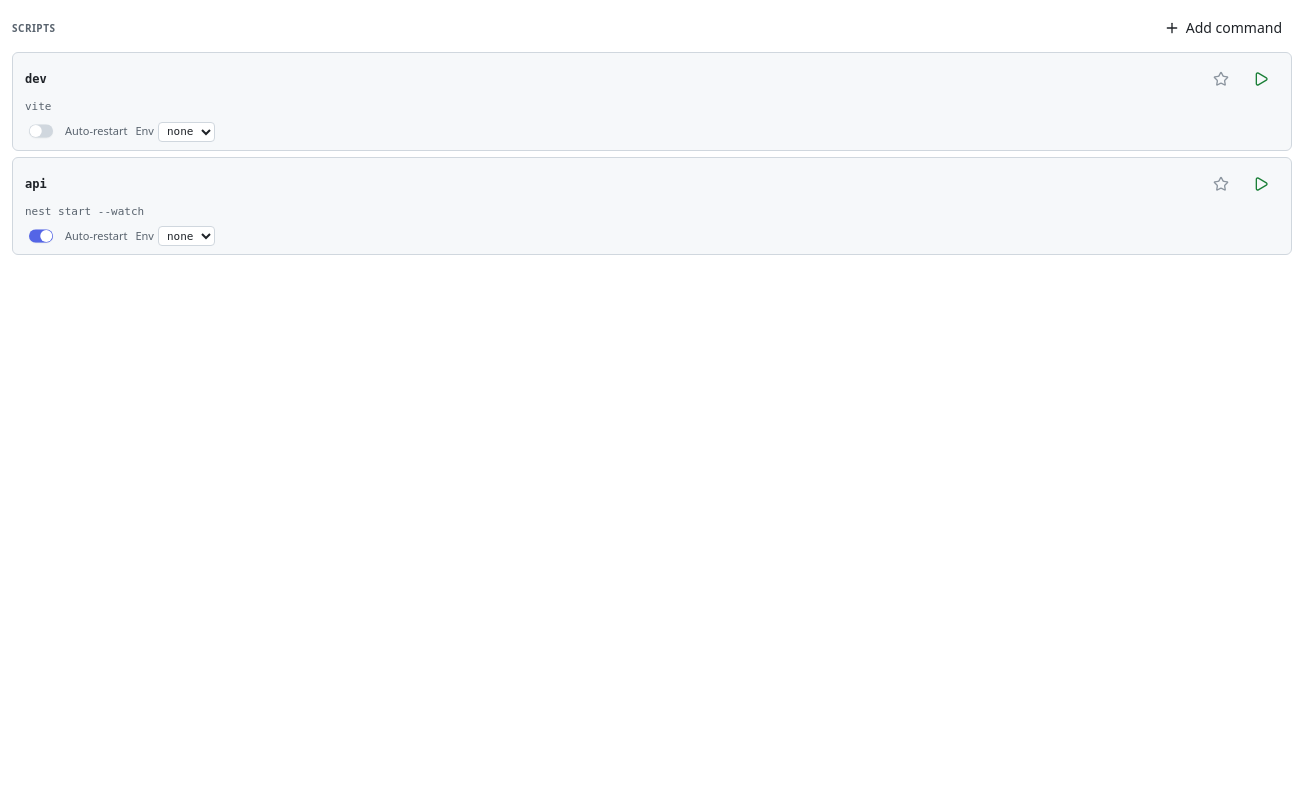
ScriptList › toasts a failed start
Click the button named "Start dev".
click(1261, 79)  # box top-left (1243, 61), bottom-right (1279, 97)
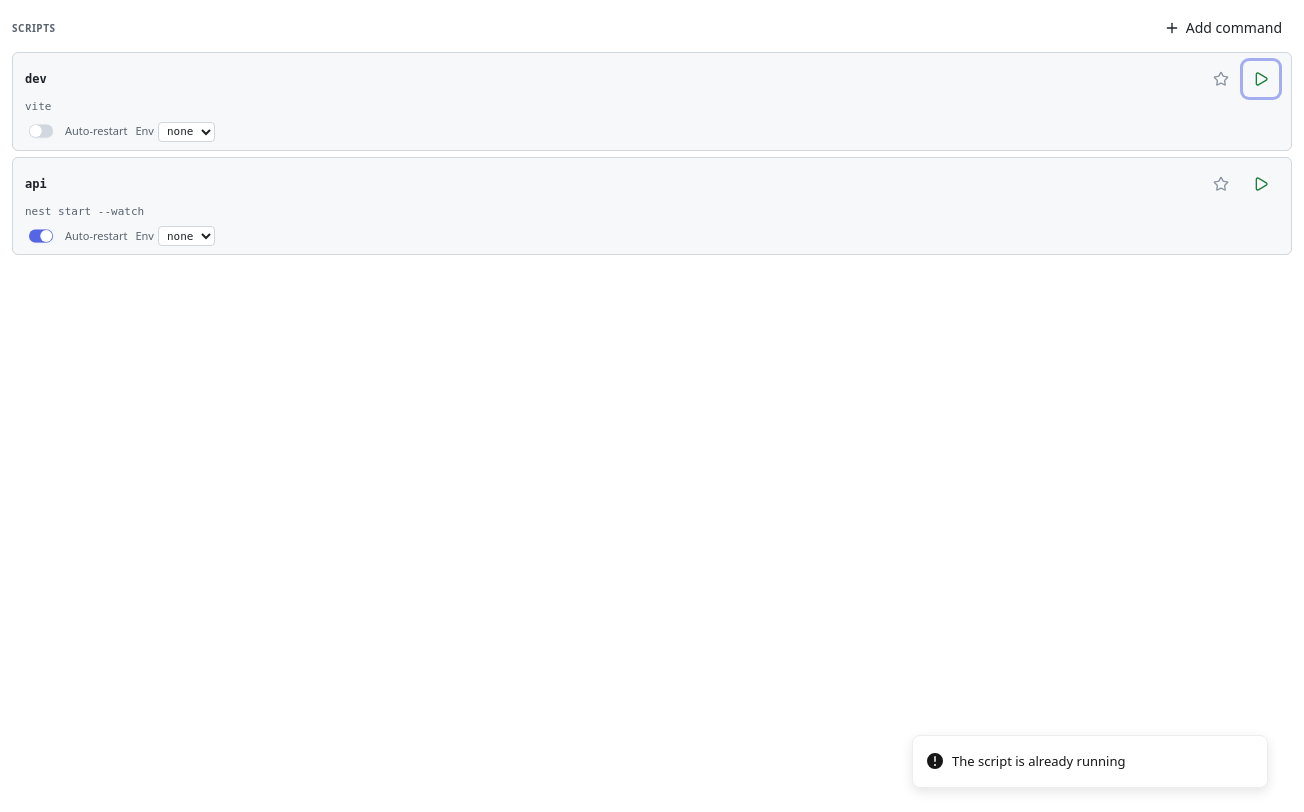
expect the text "The script is already running" is shown: met, box top-left (952, 752), bottom-right (1125, 771)
